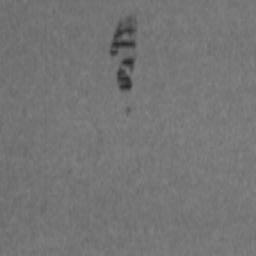Secondary rust skin: (110, 15, 138, 90)
